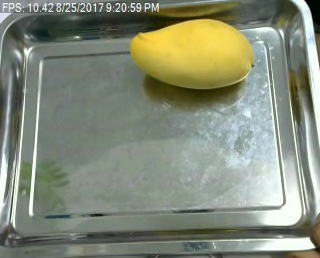Mango: (128, 13, 259, 93)
